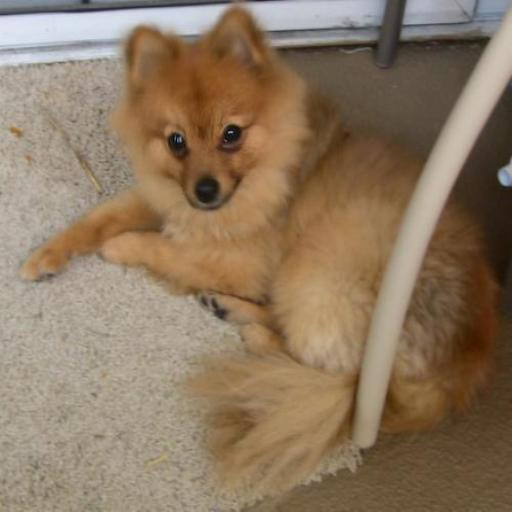dog_face: (124, 20, 275, 210)
